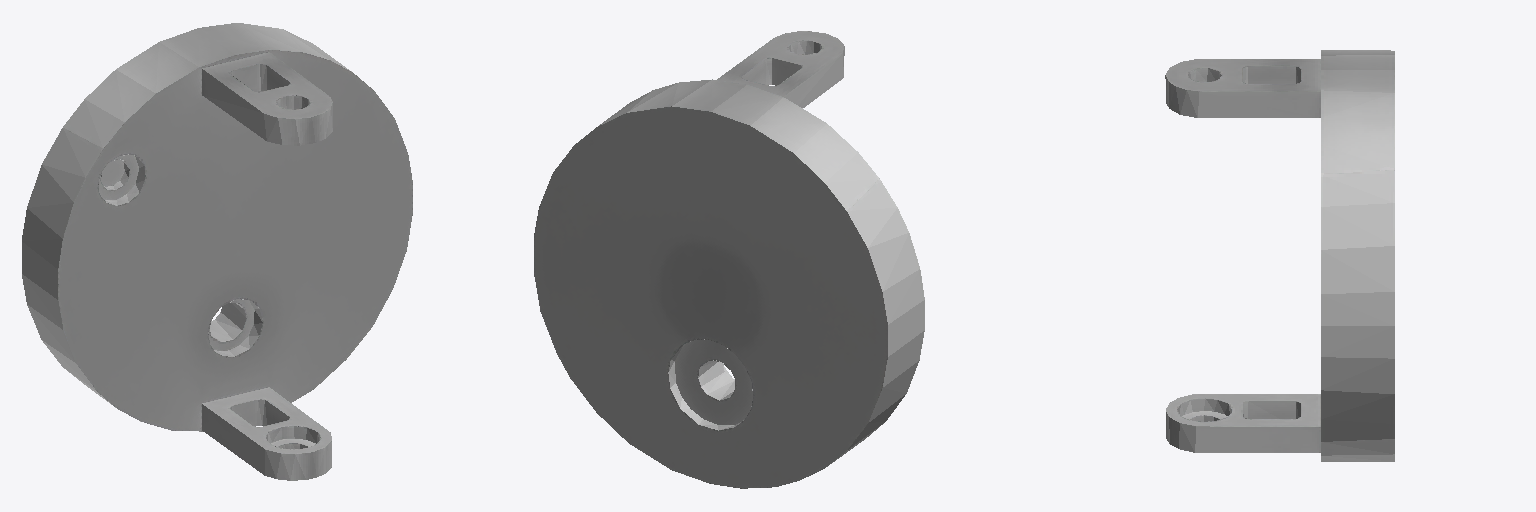
3 views of the same model, side by side, from view 1: azimuth 30°, elevation 25°; view 2: azimuth 150°, elevation 25°; view 3: azimuth 270°, elevation 25° (orthographic).
Visible parts, largest first — view 1: Case.001_Mesh.012; view 2: Case.001_Mesh.012; view 3: Case.001_Mesh.012.
Boxes of the visible parts, box(x1,y1,x2,y2) form: Case.001_Mesh.012: box(22, 23, 412, 480); Case.001_Mesh.012: box(534, 31, 924, 488); Case.001_Mesh.012: box(1165, 50, 1394, 461).
Bounding box in the file's own units: 0.2735 × 0.2744 × 0.153.
Materials: 1 (1 with a texture image).